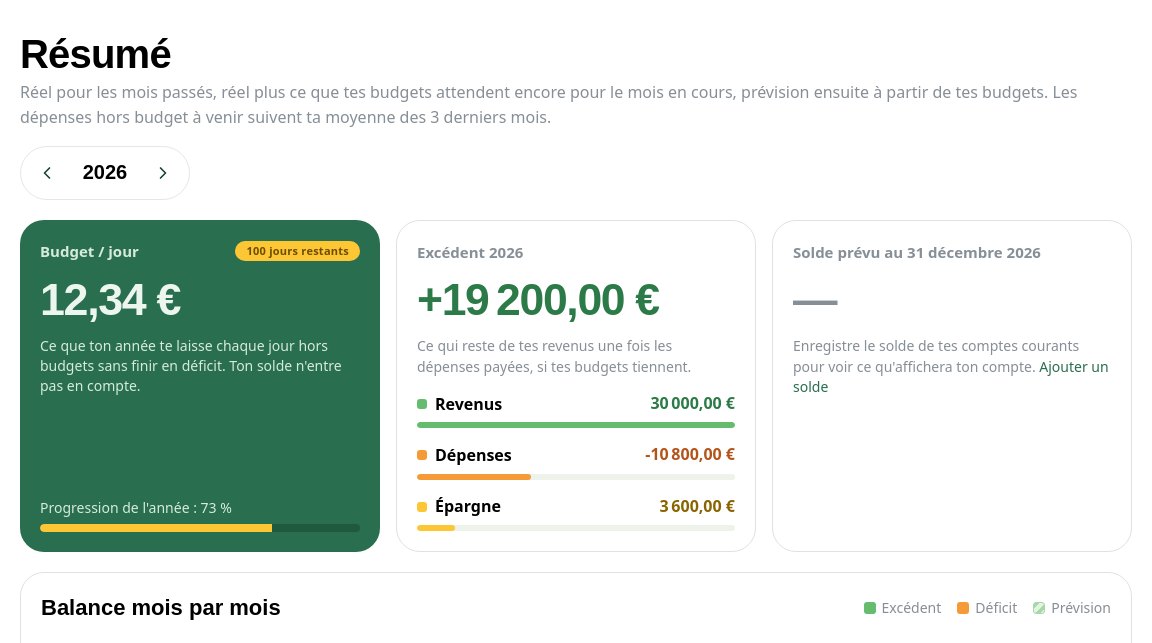
Test case: SummaryPage › navigates year with arrow buttons
Check: the text "2026" is shown, box [83,161,127,183]
Click the button named "Année suivante".
click(163, 173)  # box [141,151,185,195]
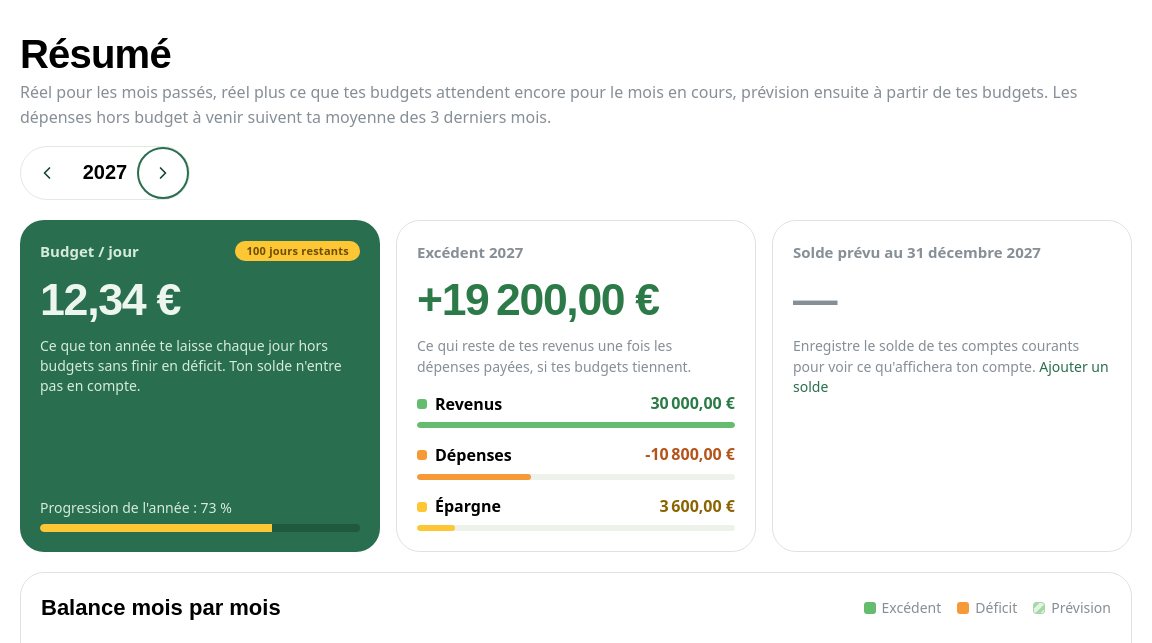
Check: the text "2027" is shown, box [83,161,127,183]
Click the button named "Année précédente".
click(47, 173)  # box [25,151,69,195]
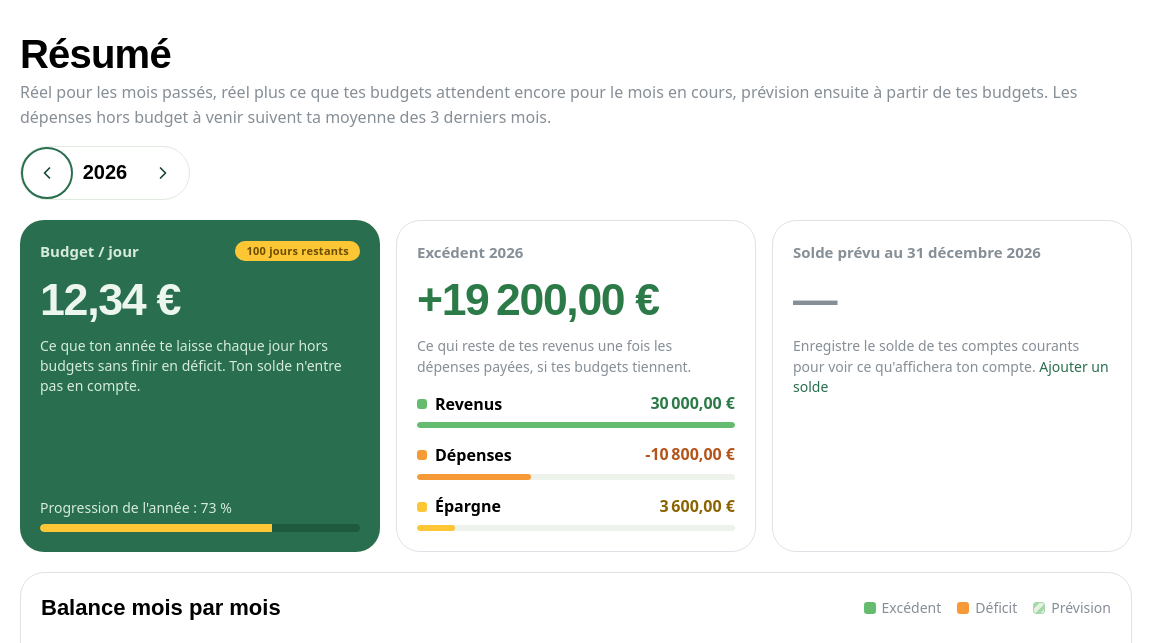
Click the button named "Année précédente".
click(47, 173)  # box [25,151,69,195]
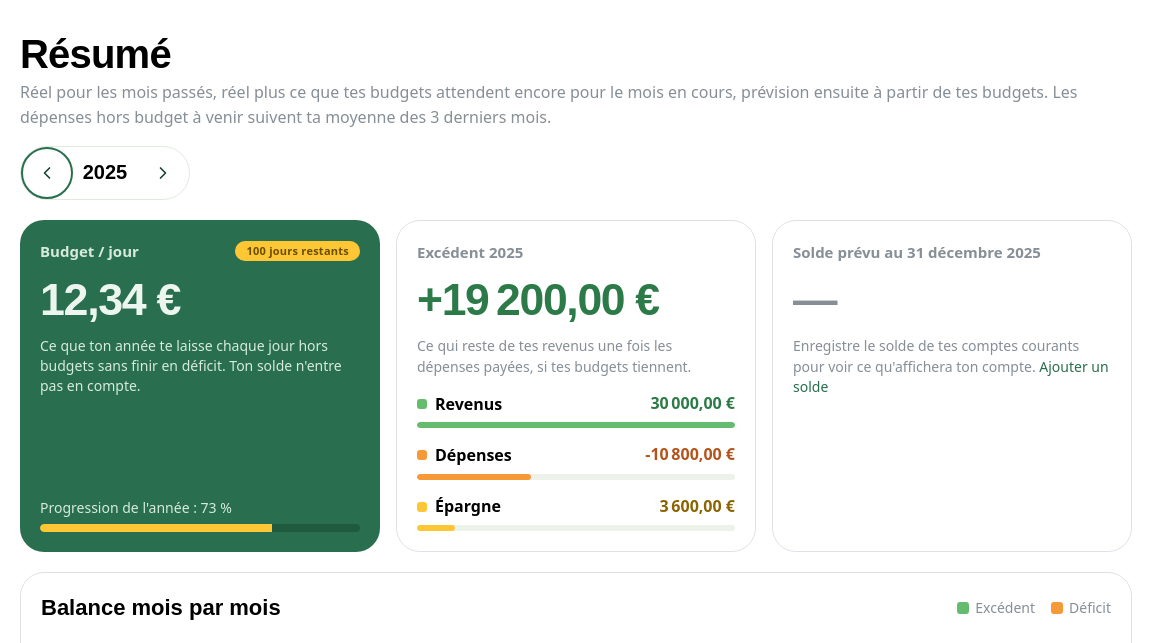
Check: the text "2025" is shown, box [83,161,127,183]
